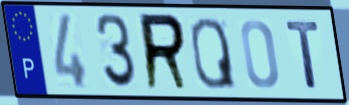0: (238, 17, 281, 91)
3: (94, 12, 139, 91)
4: (52, 11, 90, 91)
Q: (188, 15, 239, 91)
R: (138, 11, 192, 94)
T: (284, 19, 323, 91)
